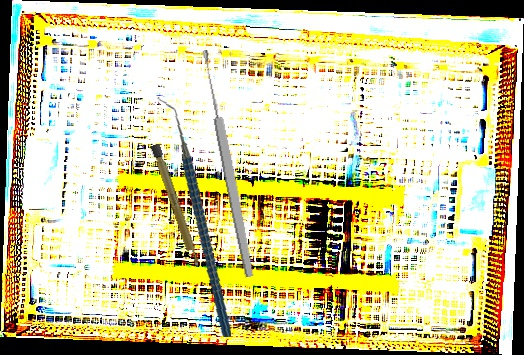Chopper: (133, 96, 255, 338)
Scalpel Handle: (149, 143, 202, 269)
Surgical Spoon: (199, 48, 256, 279)
